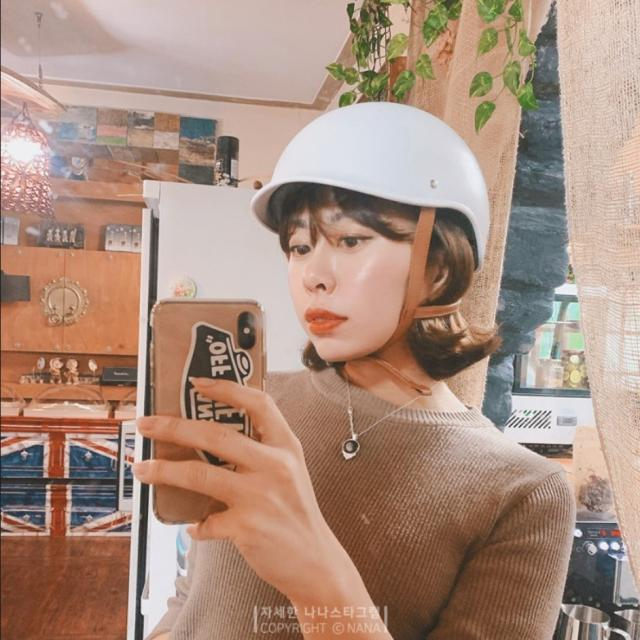Helmet: (251, 102, 490, 270)
